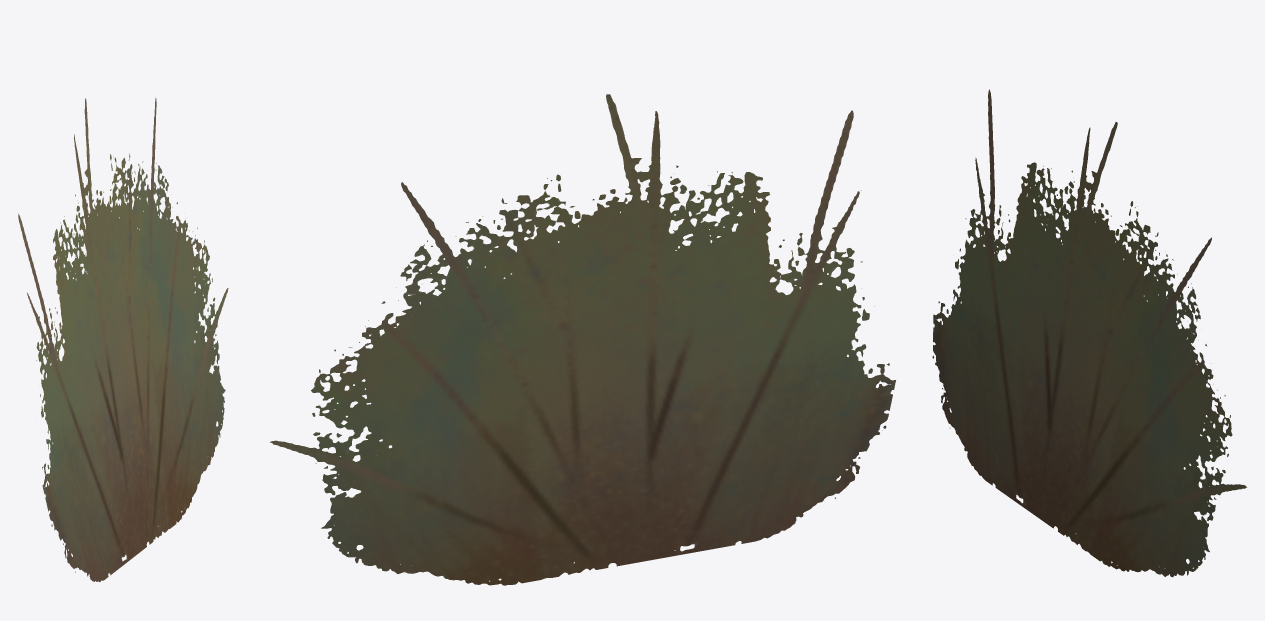
File: bush1_001.fbx
The picture shows the model from 3 angles, left to right: view 1: azimuth 30°, elevation 25°; view 2: azimuth 150°, elevation 25°; view 3: azimuth 270°, elevation 25°; orthographic projection. The views are drawn at different scales.
Parts seen in each view (by area): view 1: bush1.001; view 2: bush1.001; view 3: bush1.001.
Part boxes in pixels (<box>): bush1.001: <box>18,97,228,581</box>; bush1.001: <box>270,94,895,585</box>; bush1.001: <box>932,89,1246,577</box>.
Bounding box in the file's own units: 254 × 333 × 206.
